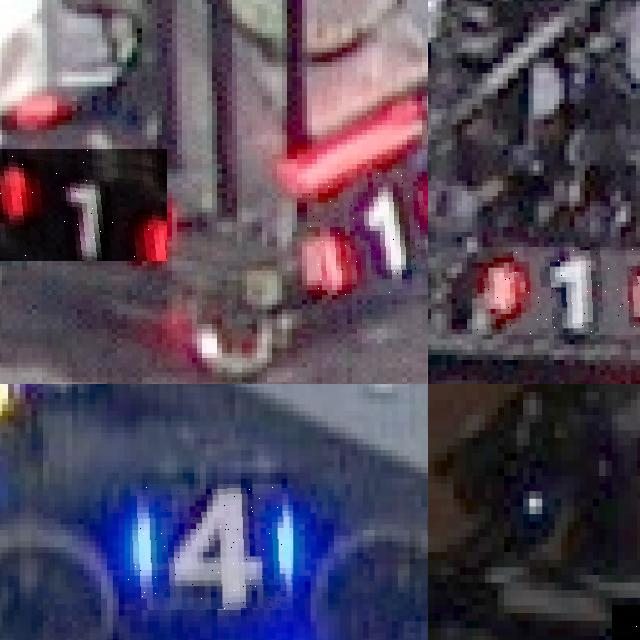B4: (125, 484, 293, 610)
R1: (0, 149, 167, 260), (307, 169, 428, 295), (477, 247, 640, 334)
